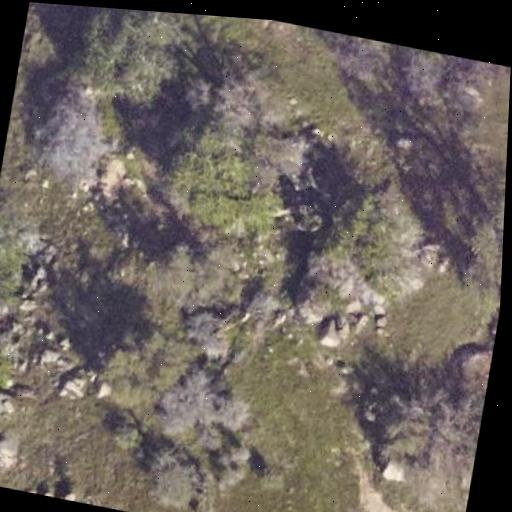tree-top: (363, 360, 488, 511), (303, 185, 438, 315), (159, 126, 285, 250), (63, 5, 189, 115), (142, 358, 264, 462), (28, 78, 124, 200), (87, 312, 196, 419), (437, 150, 507, 309), (141, 231, 245, 333), (0, 214, 45, 331), (385, 44, 453, 114), (142, 448, 210, 512), (330, 35, 392, 100), (0, 333, 27, 392)
